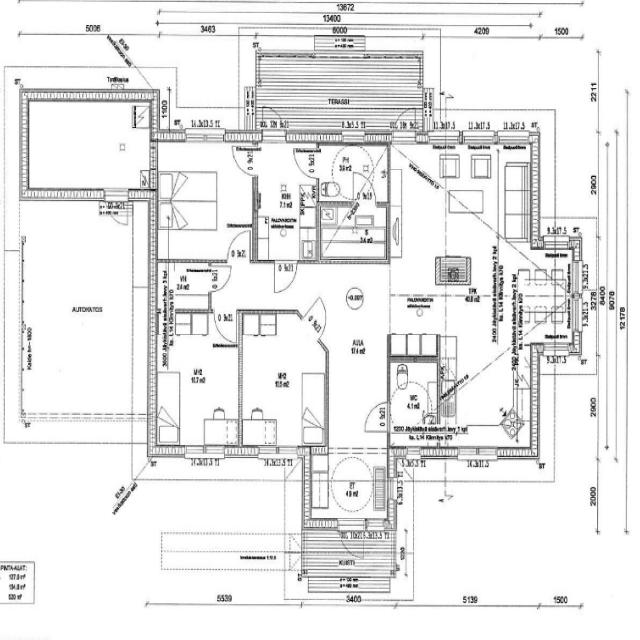door: (302, 296, 336, 340), (338, 518, 365, 566), (104, 189, 128, 231), (262, 99, 285, 142), (392, 100, 414, 142), (226, 229, 250, 263), (230, 147, 258, 176), (363, 403, 390, 433), (293, 148, 319, 179), (353, 173, 376, 207), (275, 259, 297, 292), (214, 310, 236, 342), (208, 266, 231, 292)
